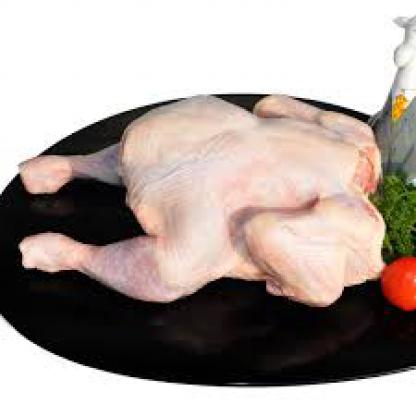chicken: (30, 109, 377, 314)
